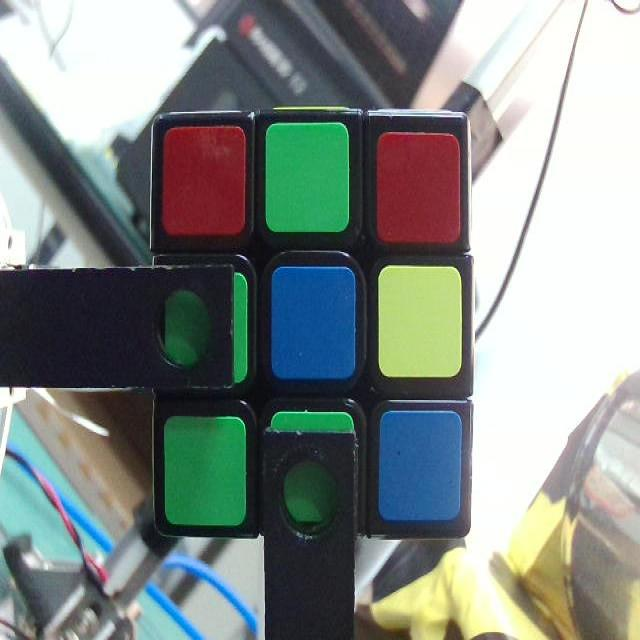b: (273, 266, 357, 378), (382, 413, 460, 519)
g: (274, 414, 352, 530), (265, 124, 348, 231), (167, 416, 245, 527), (166, 276, 245, 384)
r: (167, 128, 242, 235), (381, 135, 457, 240)
y: (378, 267, 463, 377)
